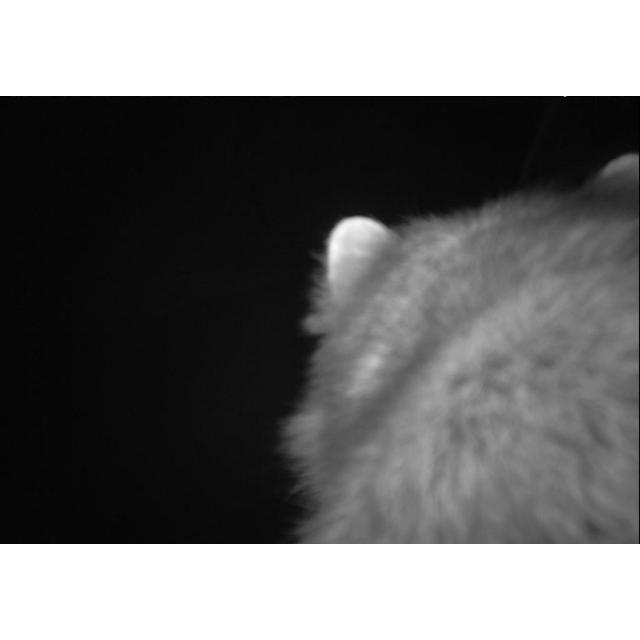animals: (284, 153, 640, 544)
